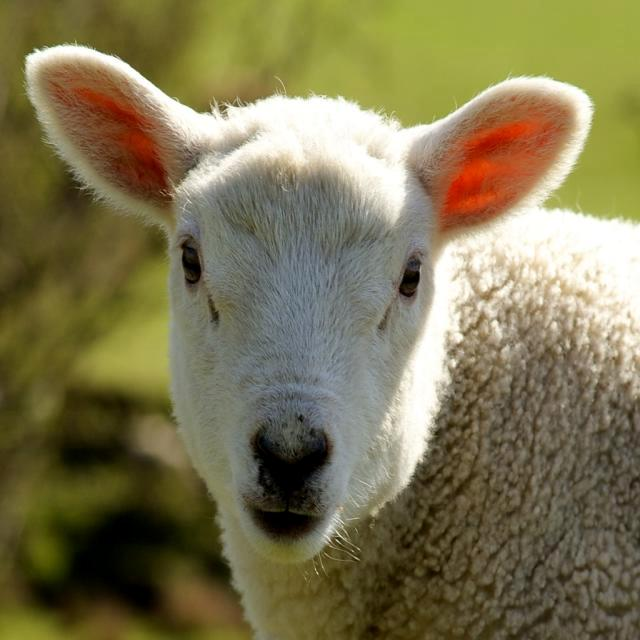sheep: (28, 46, 637, 639)
